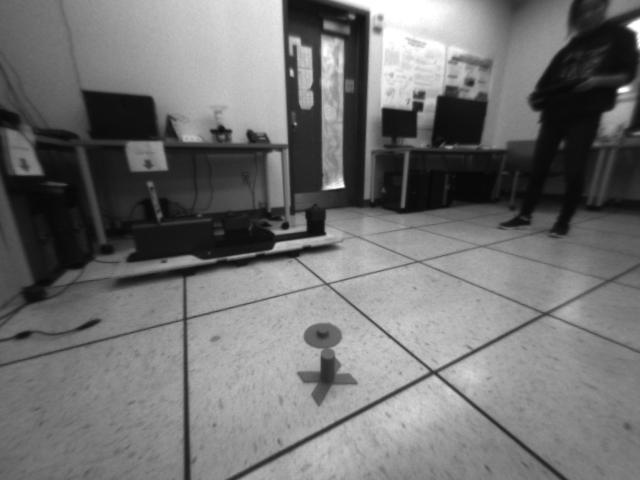X: (297, 348, 359, 407)
